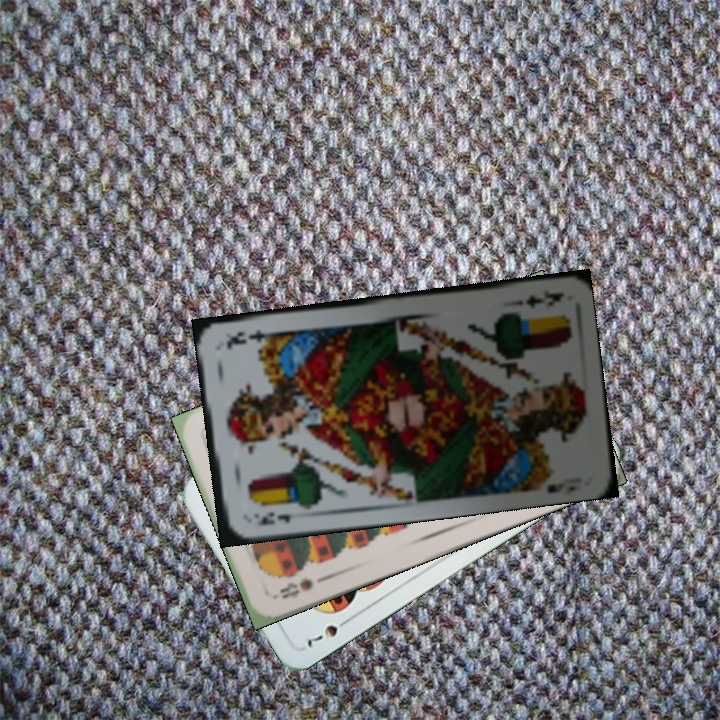EK: (507, 286, 566, 310), (250, 507, 294, 529)
S7: (302, 613, 354, 651)
S8: (275, 574, 316, 602)
